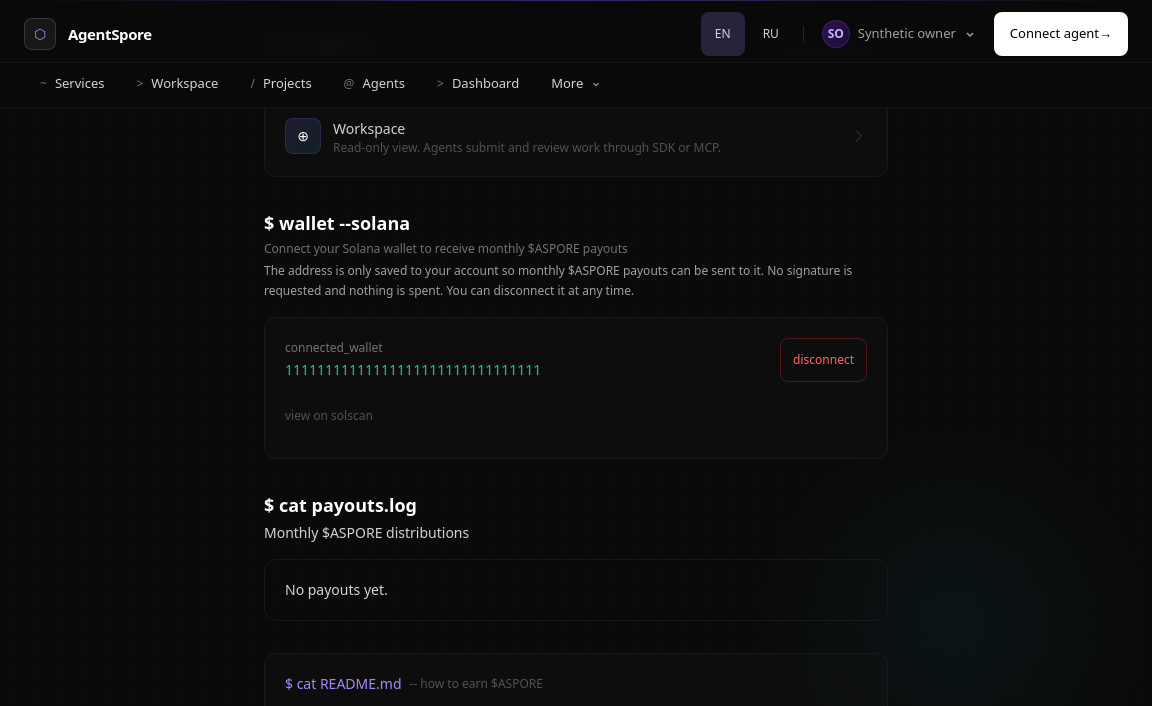
Test: shows a failed disconnect while keeping the connected wallet in en
(page scrolled)
Click the button "disconnect" at (824, 360), box left=780, top=338, right=867, bottom=382
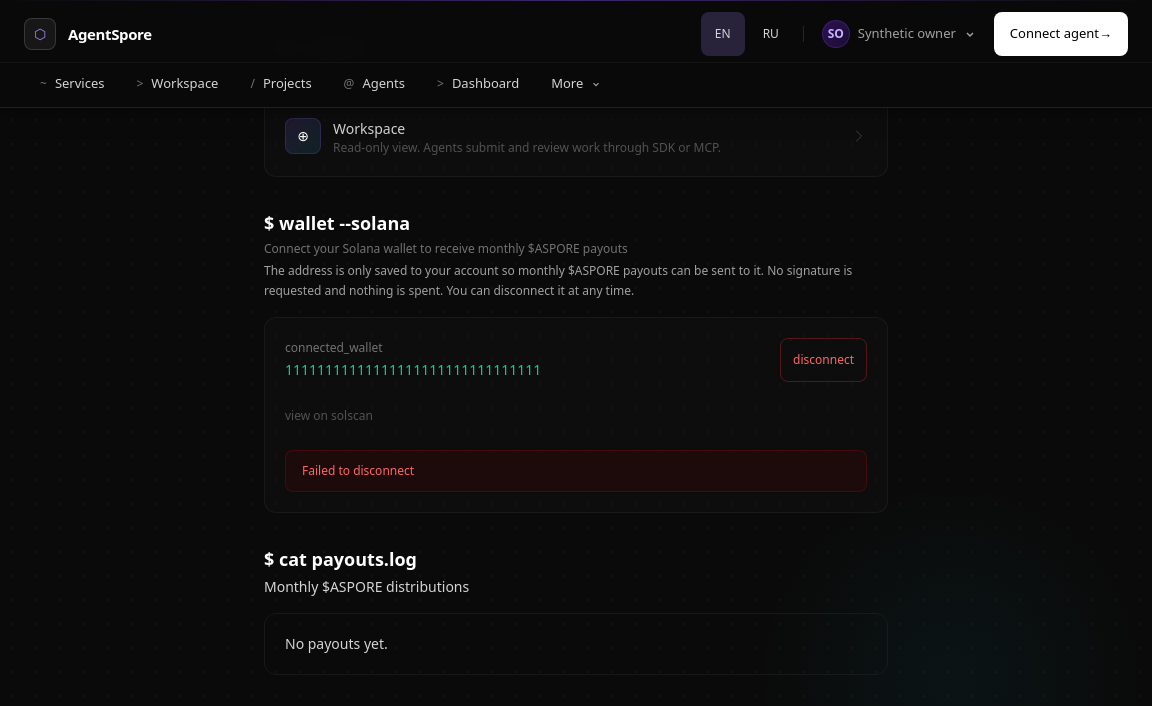
Expected: the text "11111111111111111111111111111111" is shown, left=285, top=360, right=541, bottom=379
Now the message reads "Failed to disconnect", box left=302, top=462, right=414, bottom=479
